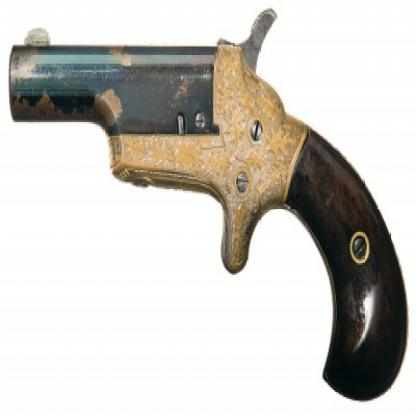Guns: (5, 5, 414, 414)
